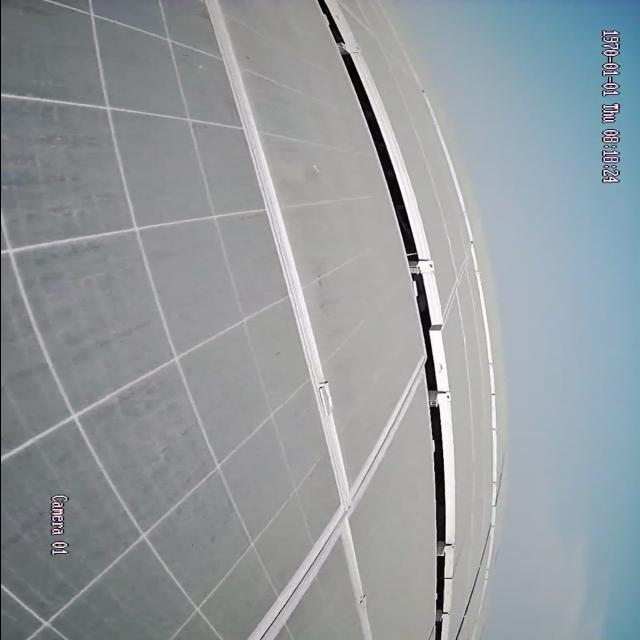interior panel: (197, 0, 421, 639)
outher panel: (317, 2, 456, 639)
